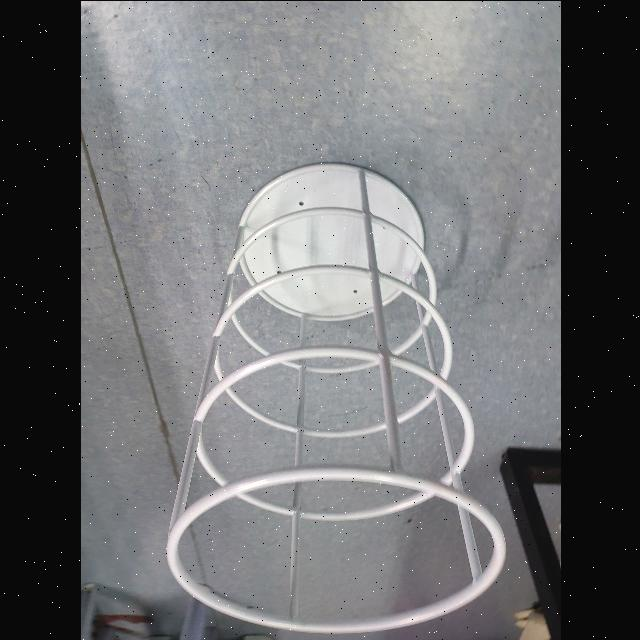S: (163, 159, 509, 635)
